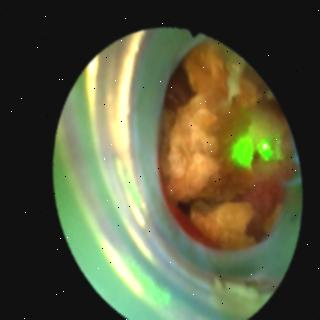laser: (231, 135, 249, 160), (256, 134, 269, 156)
stone: (158, 42, 288, 199), (187, 198, 251, 245), (260, 198, 277, 228)
